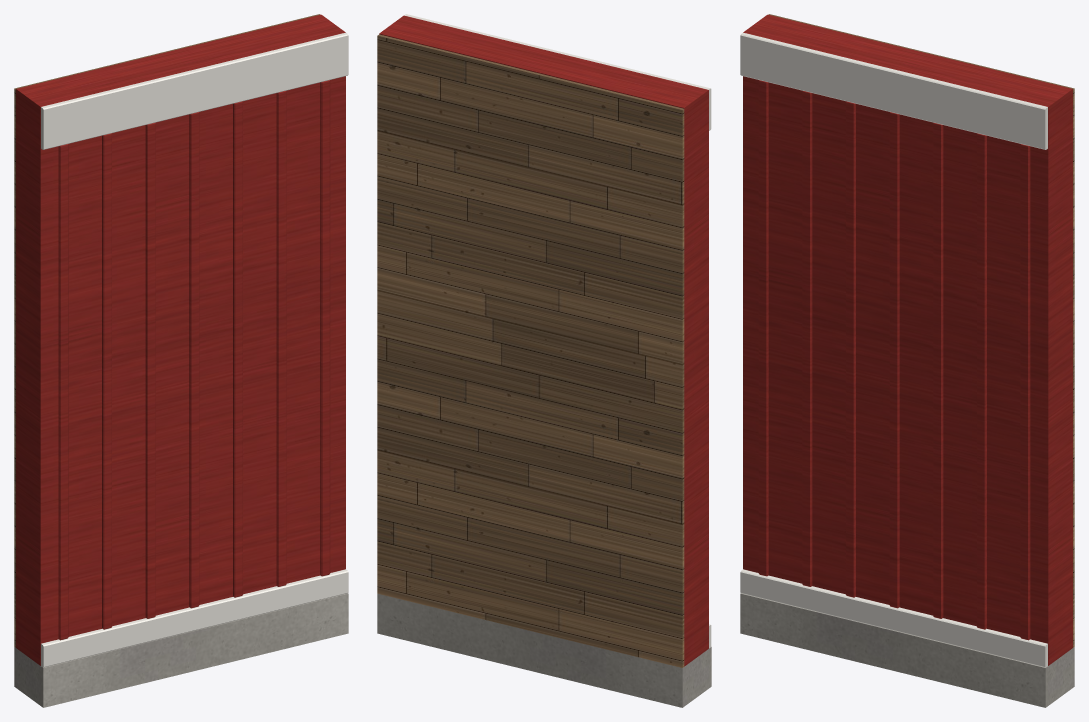
The model's file is barn_wall_plain.glb.
3 views of the same model, side by side, from view 1: azimuth 30°, elevation 25°; view 2: azimuth 150°, elevation 25°; view 3: azimuth 330°, elevation 25° (orthographic).
Parts seen in each view (by area): view 1: barn_wall_plain_barn, barn_wall_plain_trim, barn_wall_plain_concrete, barn_wall_plain_planks; view 2: barn_wall_plain_planks, barn_wall_plain_barn, barn_wall_plain_concrete, barn_wall_plain_trim; view 3: barn_wall_plain_barn, barn_wall_plain_trim, barn_wall_plain_concrete, barn_wall_plain_planks.
Part boxes in pixels (<box>): barn_wall_plain_barn: <box>16,14,345,665</box>; barn_wall_plain_trim: <box>41,32,348,667</box>; barn_wall_plain_concrete: <box>14,593,348,707</box>; barn_wall_plain_planks: <box>14,14,319,647</box>; barn_wall_plain_planks: <box>377,34,684,667</box>; barn_wall_plain_barn: <box>379,15,708,666</box>; barn_wall_plain_concrete: <box>377,593,711,707</box>; barn_wall_plain_trim: <box>404,14,711,648</box>; barn_wall_plain_barn: <box>743,14,1072,665</box>; barn_wall_plain_trim: <box>740,32,1047,667</box>; barn_wall_plain_concrete: <box>740,593,1074,707</box>; barn_wall_plain_planks: <box>769,14,1074,647</box>.
Size of the model in its own units: 2 by 3.75 by 0.33.
Materials: 4 (3 with a texture image).
